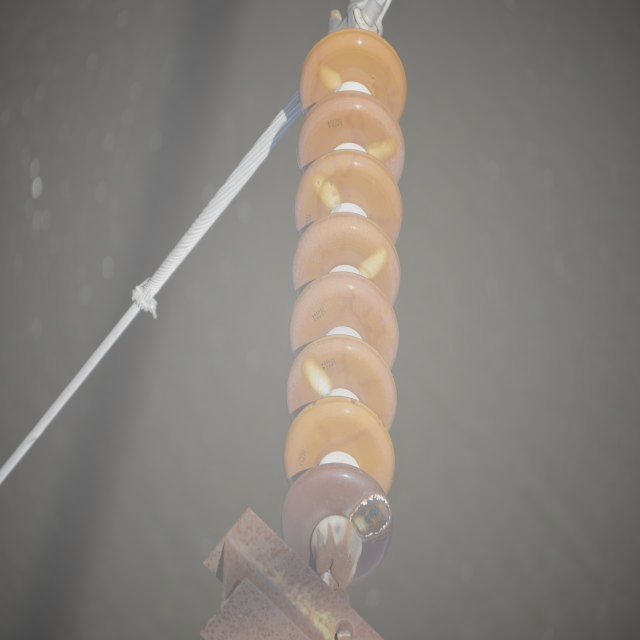insulator: (282, 28, 408, 581)
